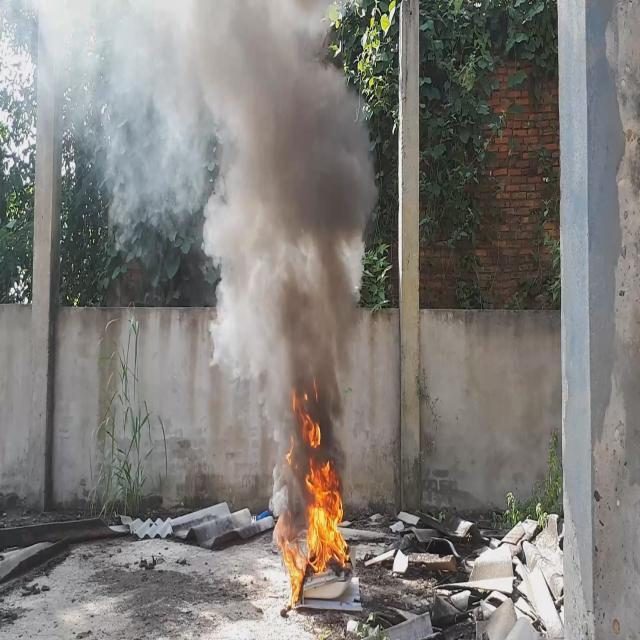Fire: (275, 409, 351, 620)
Smoke: (0, 0, 375, 516)
